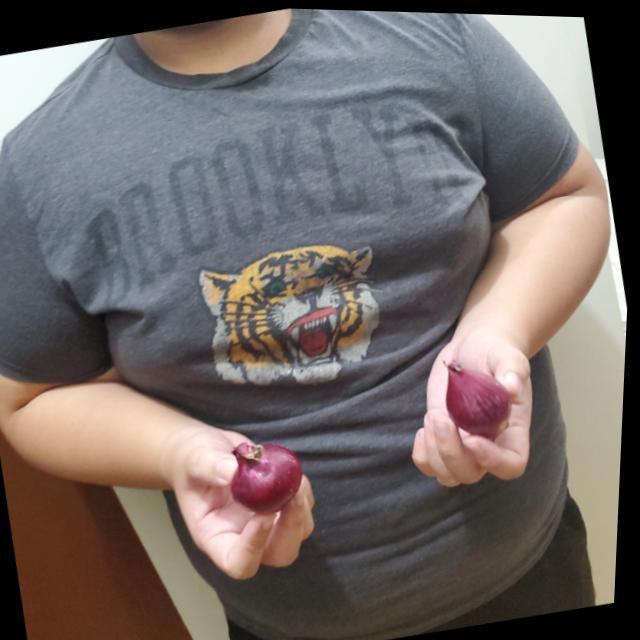onion: (230, 430, 313, 517), (442, 347, 518, 439)
